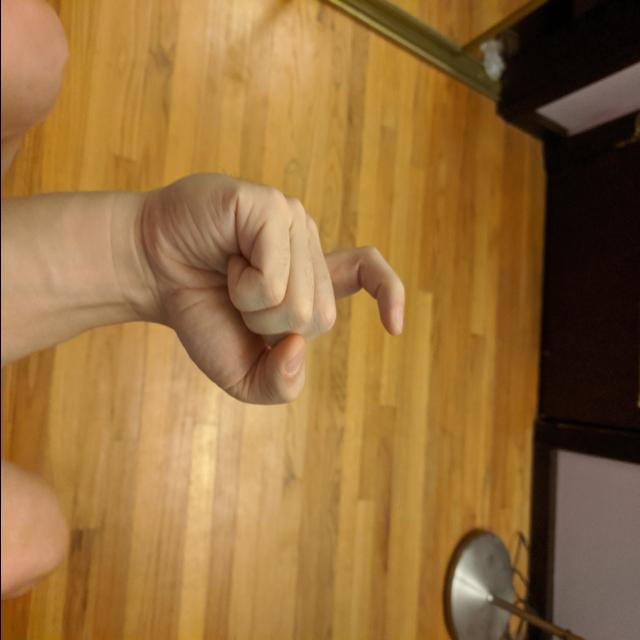X: (135, 162, 409, 410)
